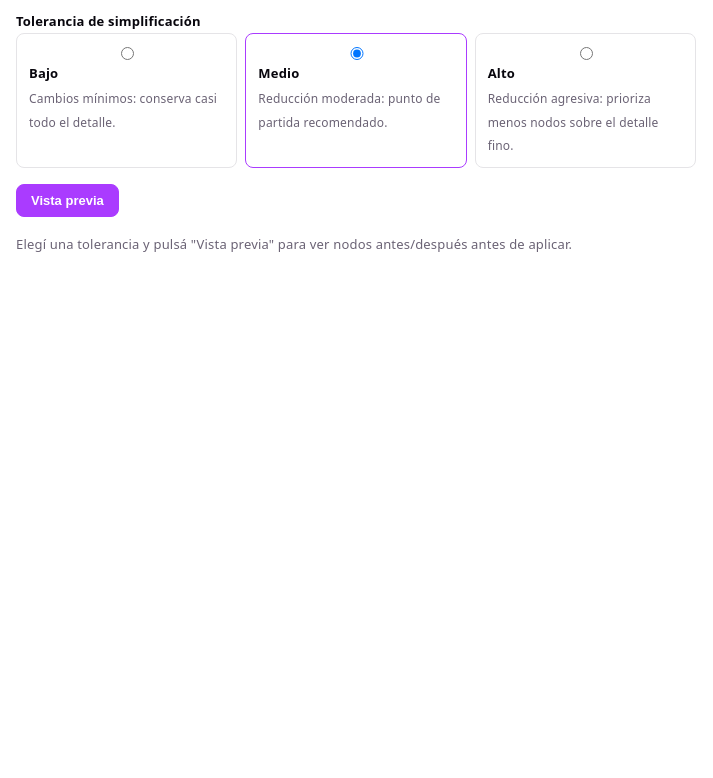
Test: SimplifyPanel — flujo de preview › muestra Aplicar y Cancelar solo después de un preview exitoso
The width and height of the screenshot is (713, 778).
Check: the button "Aplicar" is not shown
Click the button "Vista previa" at (67, 200), box [16,184,119,217]
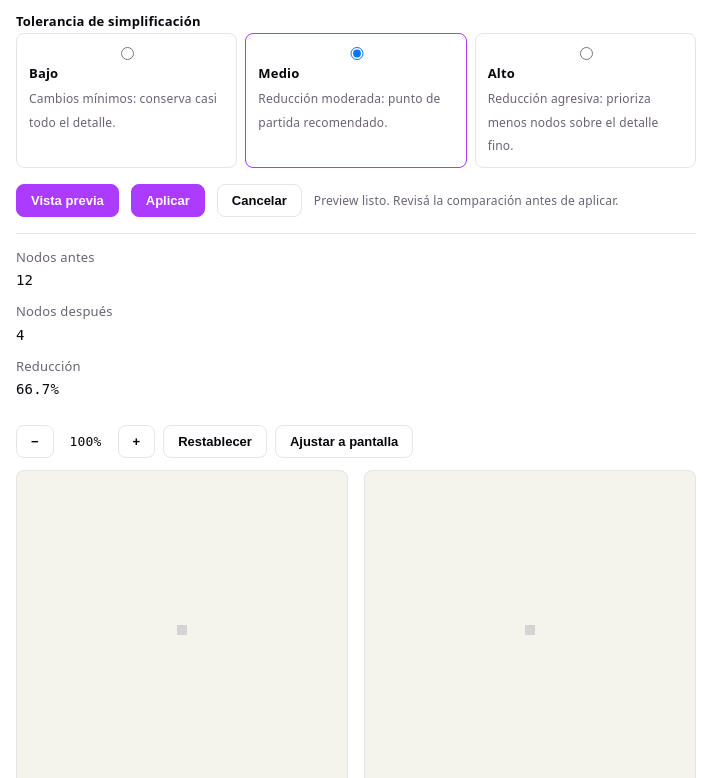
Check: the button "Aplicar" is shown, box [131,184,205,217]
Check: the button "Cancelar" is shown, box [217,184,302,217]
